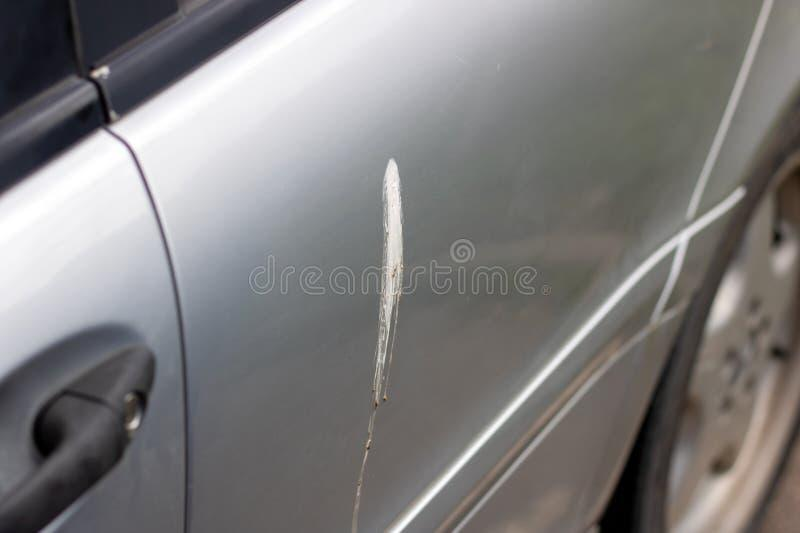dirt: (347, 128, 420, 532)
